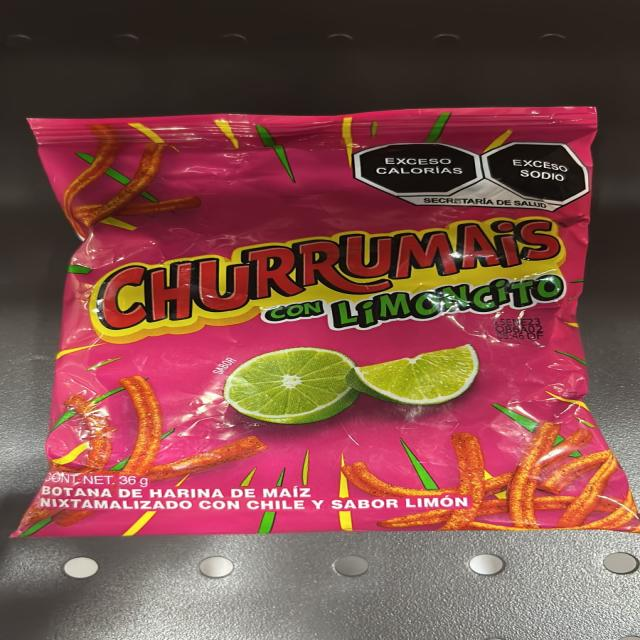churrumais: (76, 137, 584, 528)
